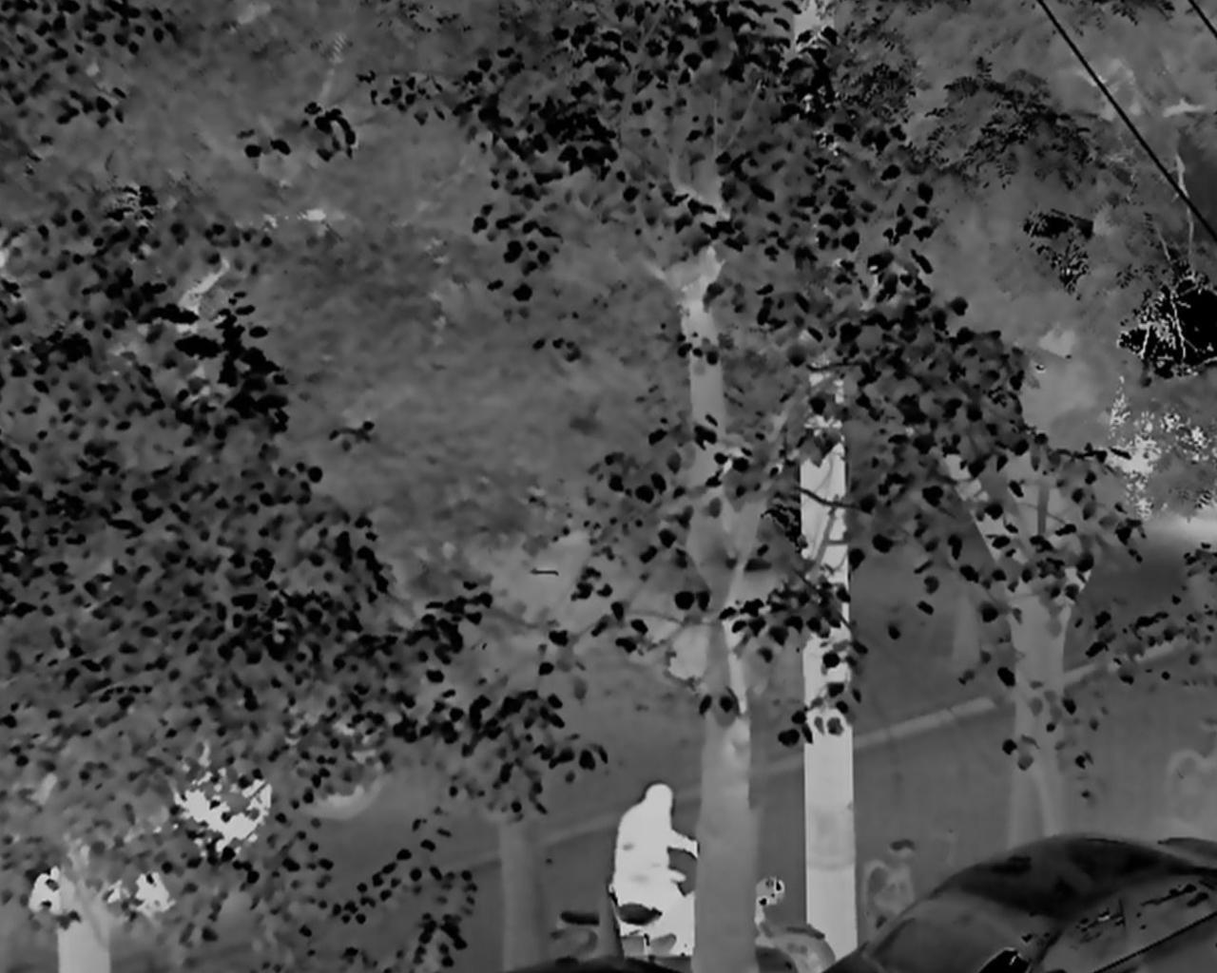person: (611, 782, 700, 973)
